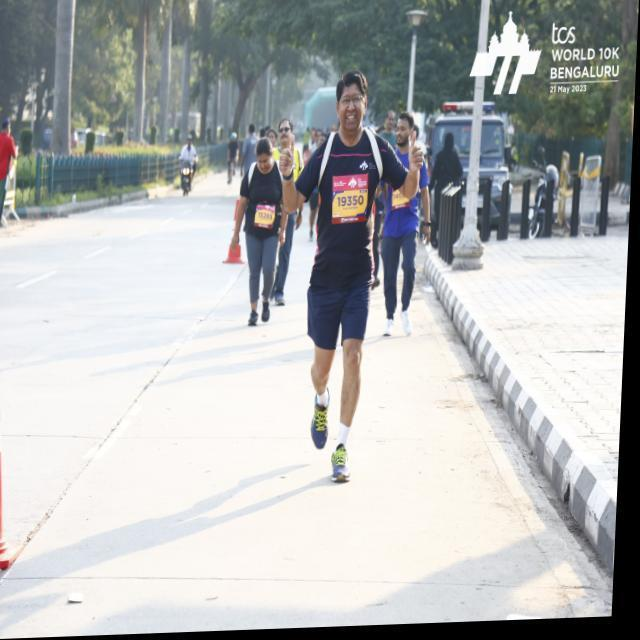dorsal: (331, 172, 374, 231), (256, 204, 280, 235)
